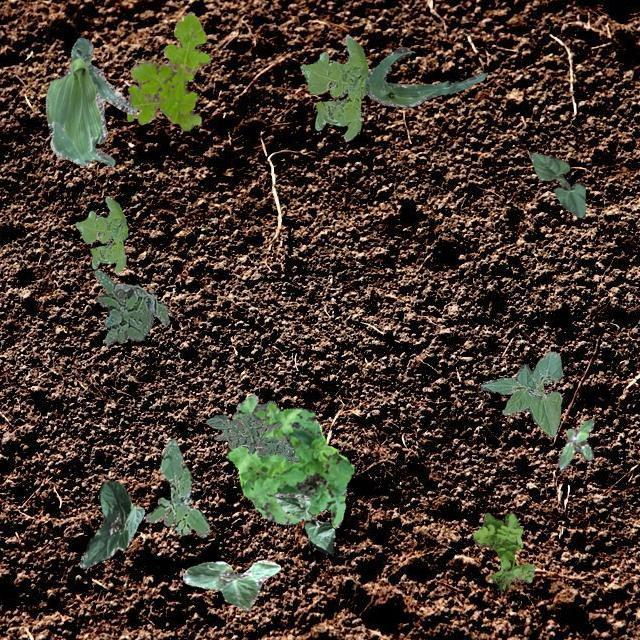crop: (45, 36, 134, 166), (364, 46, 486, 106), (479, 350, 562, 436), (78, 478, 144, 568), (182, 560, 280, 610), (274, 492, 334, 552), (530, 152, 584, 216)
weed: (225, 393, 354, 528), (126, 10, 210, 130), (300, 36, 368, 140), (144, 438, 208, 536), (94, 268, 168, 344), (472, 512, 534, 590), (205, 412, 298, 462), (74, 195, 126, 272), (556, 419, 592, 468)
